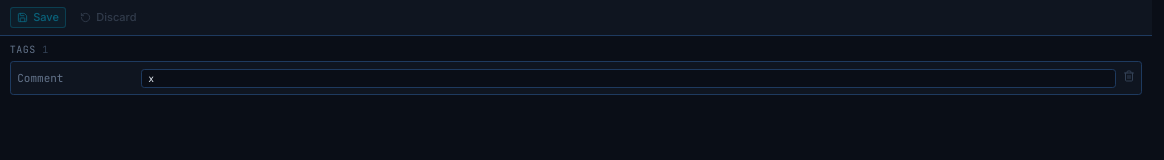
Scenario: saves without an undo entry › the warning is cleared by the next edit
Replace the text in the field named "Comment" with "y": (629, 79) top-left (141, 69), bottom-right (1116, 88)
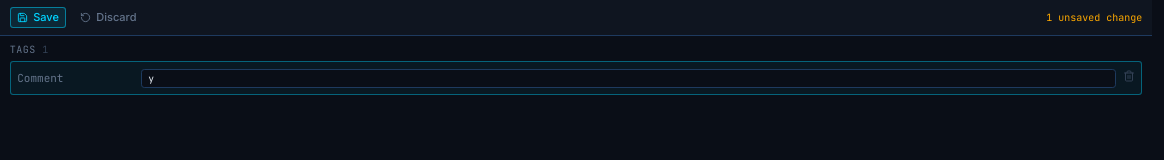
Click the button "Save": (38, 17) top-left (10, 6), bottom-right (66, 28)
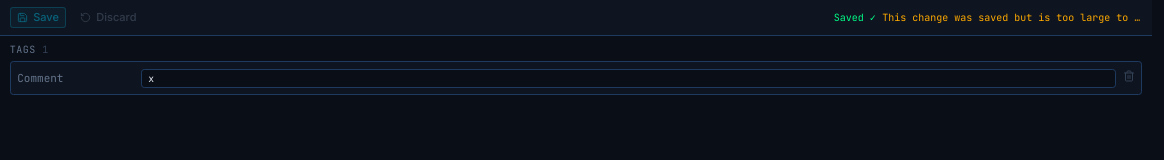
Check: the message "This change was saved but is too large to be undone (70 MiB > 64 MiB limit)" is shown, box top-left (882, 10), bottom-right (1142, 25)
Replace the text in the field named "Comment" with "z": (629, 79) top-left (141, 69), bottom-right (1116, 88)
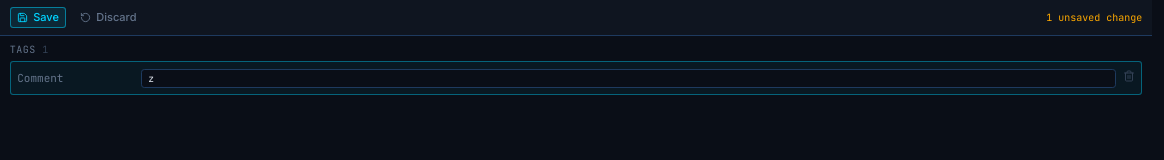
Check: the message "This change was saved but is too large to be undone (70 MiB > 64 MiB limit)" is gone
